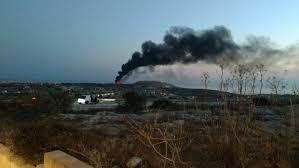smoke: (109, 16, 299, 84)
